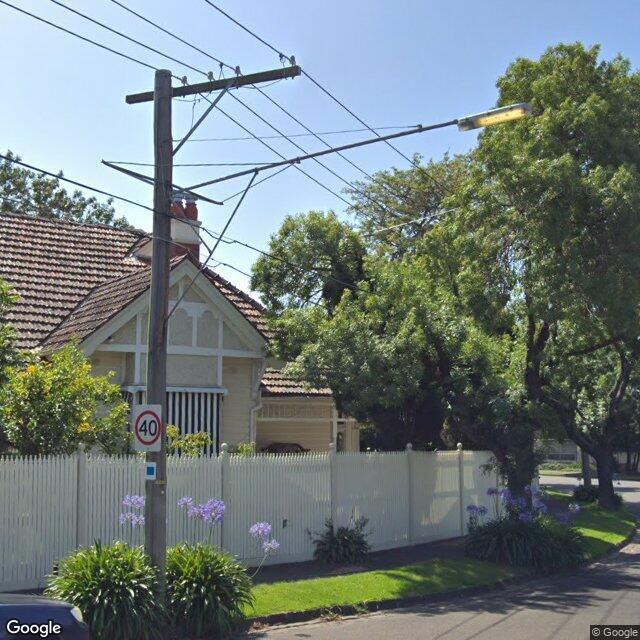crossarm: (125, 54, 302, 104)
streetlight: (168, 101, 534, 200)
timber-pole: (143, 68, 173, 603)
